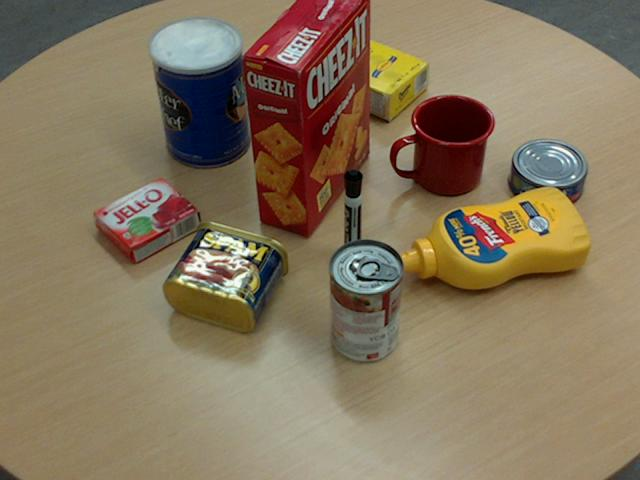cracker_box: (240, 0, 371, 236)
gelatin_box: (92, 175, 199, 262)
large_marker: (343, 169, 362, 263)
master_chef_can: (148, 16, 249, 168)
mug: (390, 93, 494, 194)
mustard_bottle: (396, 186, 589, 289)
potted_meat_can: (162, 220, 288, 331)
sugar_box: (277, 18, 429, 119)
tomato_soup_can: (328, 238, 403, 361)
tuna_fish_can: (507, 138, 586, 207)
